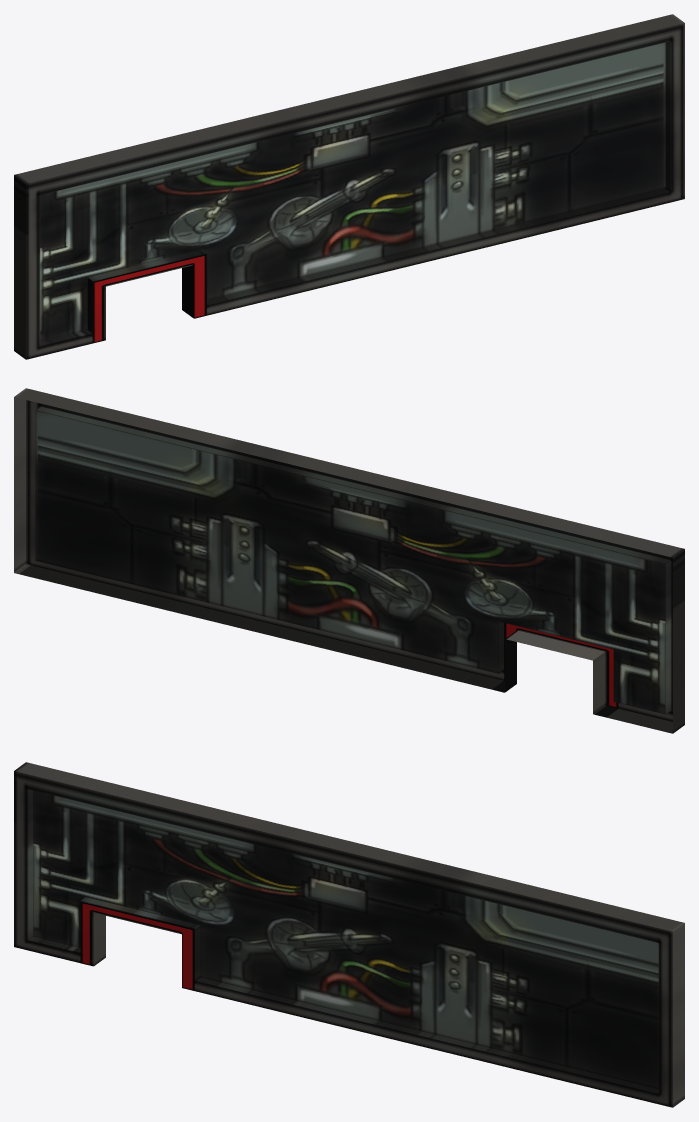
The model's file is DUCK_LEFT.fbx.
The picture shows the model from 3 angles, top to bottom: view 1: azimuth 30°, elevation 25°; view 2: azimuth 150°, elevation 25°; view 3: azimuth 330°, elevation 25°; orthographic projection.
Parts seen in each view (by area): view 1: wall1; view 2: wall1; view 3: wall1.
Part boxes in pixels (x1,y1,x2,y2): wall1: [14, 14, 684, 359]; wall1: [14, 388, 684, 733]; wall1: [14, 762, 684, 1107].
Size of the model in its own units: 40.08 by 10.23 by 1.27.
1 material, 1 textured.
